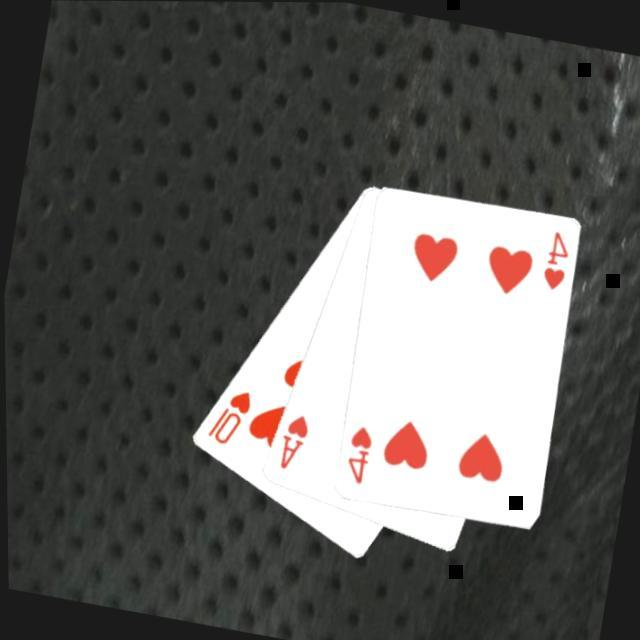10H: (202, 382, 256, 451)
4H: (536, 225, 576, 293), (339, 420, 378, 486)
AH: (273, 408, 314, 474)
